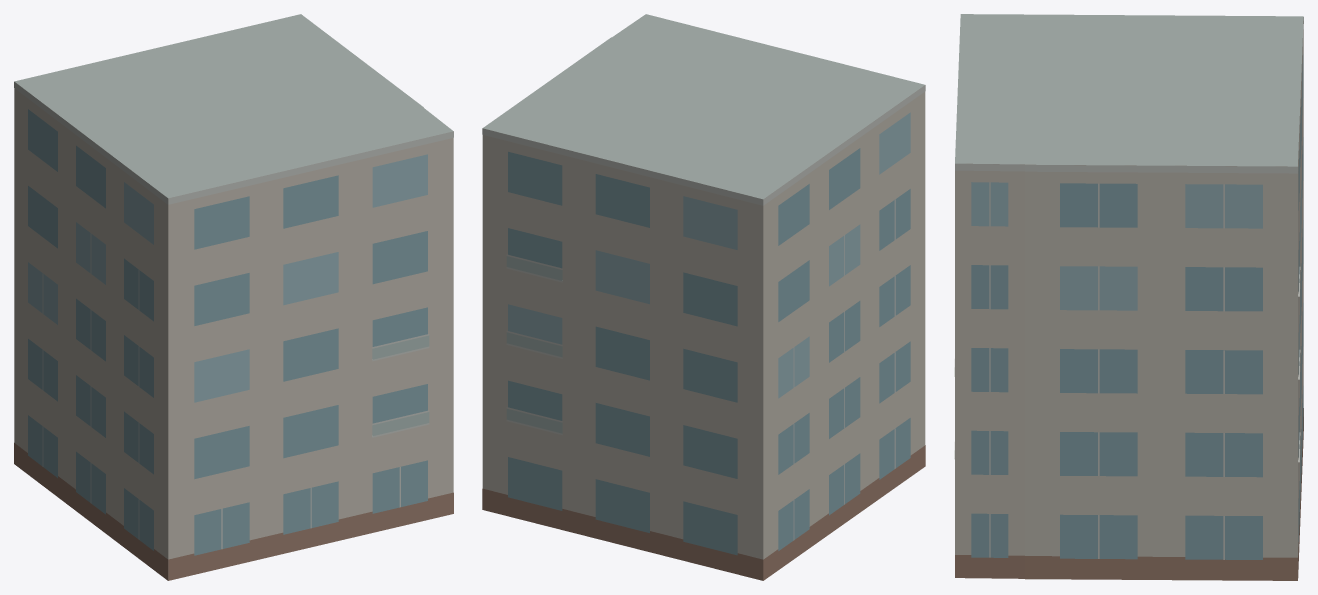
File: survey-upis-33023204.glb
3 renders of one model, left to right at view 1: azimuth 30°, elevation 25°; view 2: azimuth 150°, elevation 25°; view 3: azimuth 270°, elevation 25°, orthographic. The views are drawn at different scales.
Parts seen in each view (by area): view 1: survey-upis-33023204.tmp; view 2: survey-upis-33023204.tmp; view 3: survey-upis-33023204.tmp.
Part boxes in pixels (box(x1,y1,x2,y2)): survey-upis-33023204.tmp: box(14, 14, 453, 580); survey-upis-33023204.tmp: box(482, 14, 925, 580); survey-upis-33023204.tmp: box(954, 14, 1303, 580).
Bounding box in the file's own units: 11.37 × 14.39 × 11.01.
